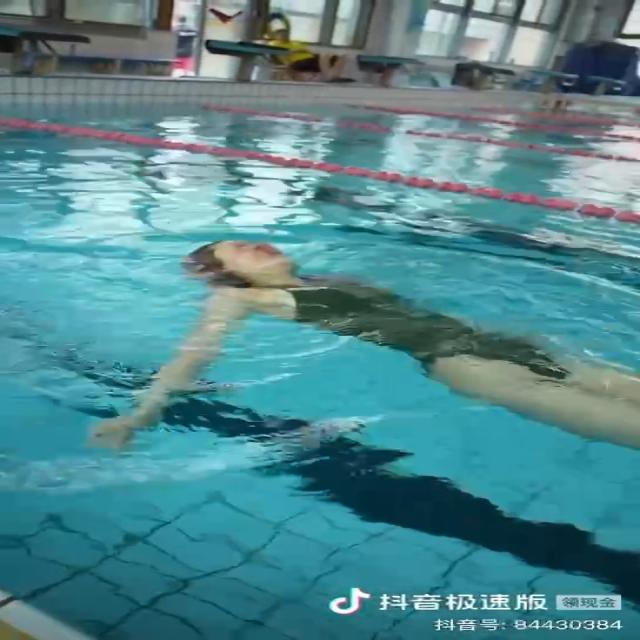Drowning: (91, 232, 640, 463)
